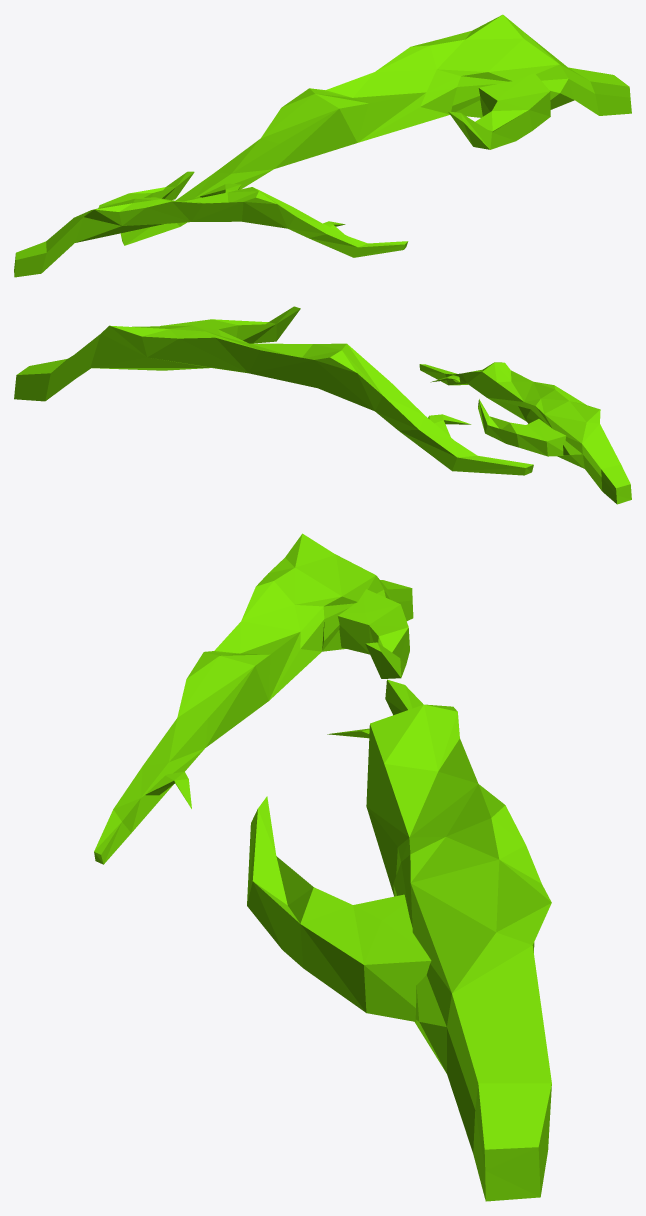
Rendered from racine1.fbx.
The picture shows the model from 3 angles, top to bottom: view 1: azimuth 30°, elevation 25°; view 2: azimuth 150°, elevation 25°; view 3: azimuth 270°, elevation 25°; orthographic projection. The views are drawn at different scales.
Visible parts, largest first — view 1: Cube.021, Cube.020; view 2: Cube.021, Cube.020; view 3: Cube.021, Cube.020.
Part boxes in pixels (x1,y1,x2,y2): Cube.021: (120,14,631,245); Cube.020: (14,171,408,277); Cube.021: (14,306,533,475); Cube.020: (419,362,631,504); Cube.021: (247,679,551,1201); Cube.020: (94,533,413,864).
Bounding box in the file's own units: 659 × 113 × 225.
